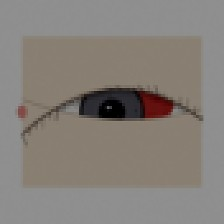hemorrhage_spot: (100, 72, 186, 140)
